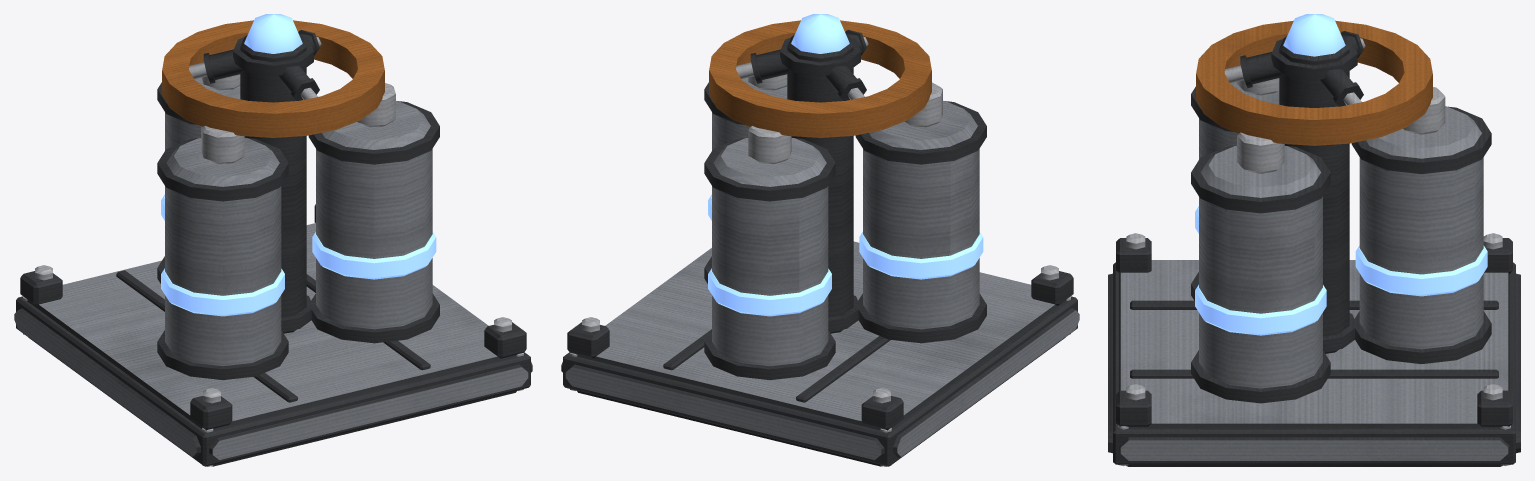
File: R4X_ChargeRegenerator.glb
3 views of the same model, side by side, from view 1: azimuth 30°, elevation 25°; view 2: azimuth 150°, elevation 25°; view 3: azimuth 270°, elevation 25° (orthographic). The views are drawn at different scales.
Visible parts, largest first — view 1: R4X_ChargeRegenerator_Body; view 2: R4X_ChargeRegenerator_Body; view 3: R4X_ChargeRegenerator_Body.
Boxes of the visible parts, x1=… form: R4X_ChargeRegenerator_Body: x1=14, y1=14, x2=532, y2=466; R4X_ChargeRegenerator_Body: x1=561, y1=14, x2=1079, y2=466; R4X_ChargeRegenerator_Body: x1=1108, y1=14, x2=1520, y2=466.
Bounding box in the file's own units: 0.52 × 0.515 × 0.52.
5 materials, 4 textured.
